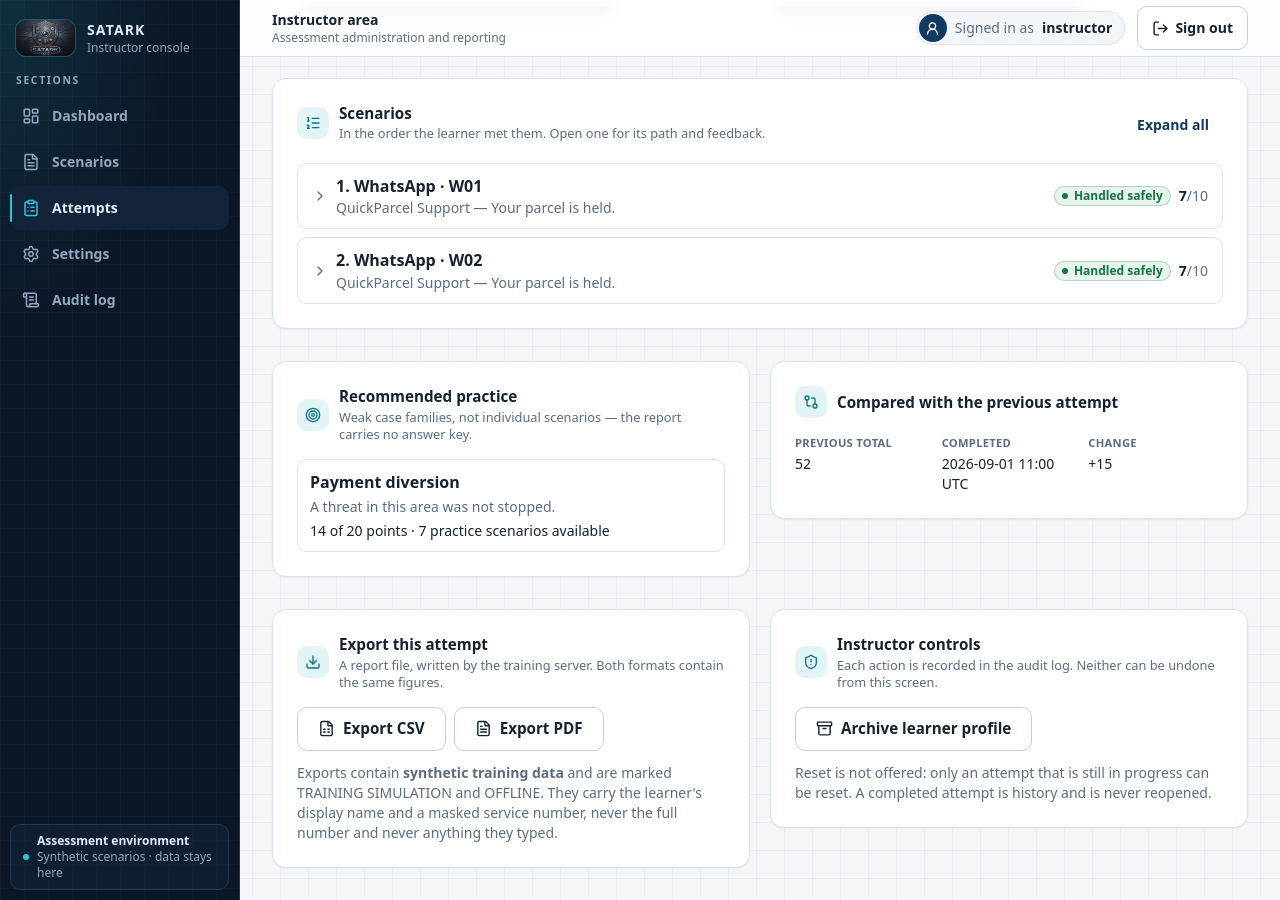
Test case: export › reports an export failure without claiming a file exists
The image size is (1280, 900).
(page scrolled)
What coordinates should you click on to do the following:
click the button "Export CSV"
I would click on:
 (371, 729)
Its box is x1=297 y1=707 x2=446 y2=751.
(page scrolled)
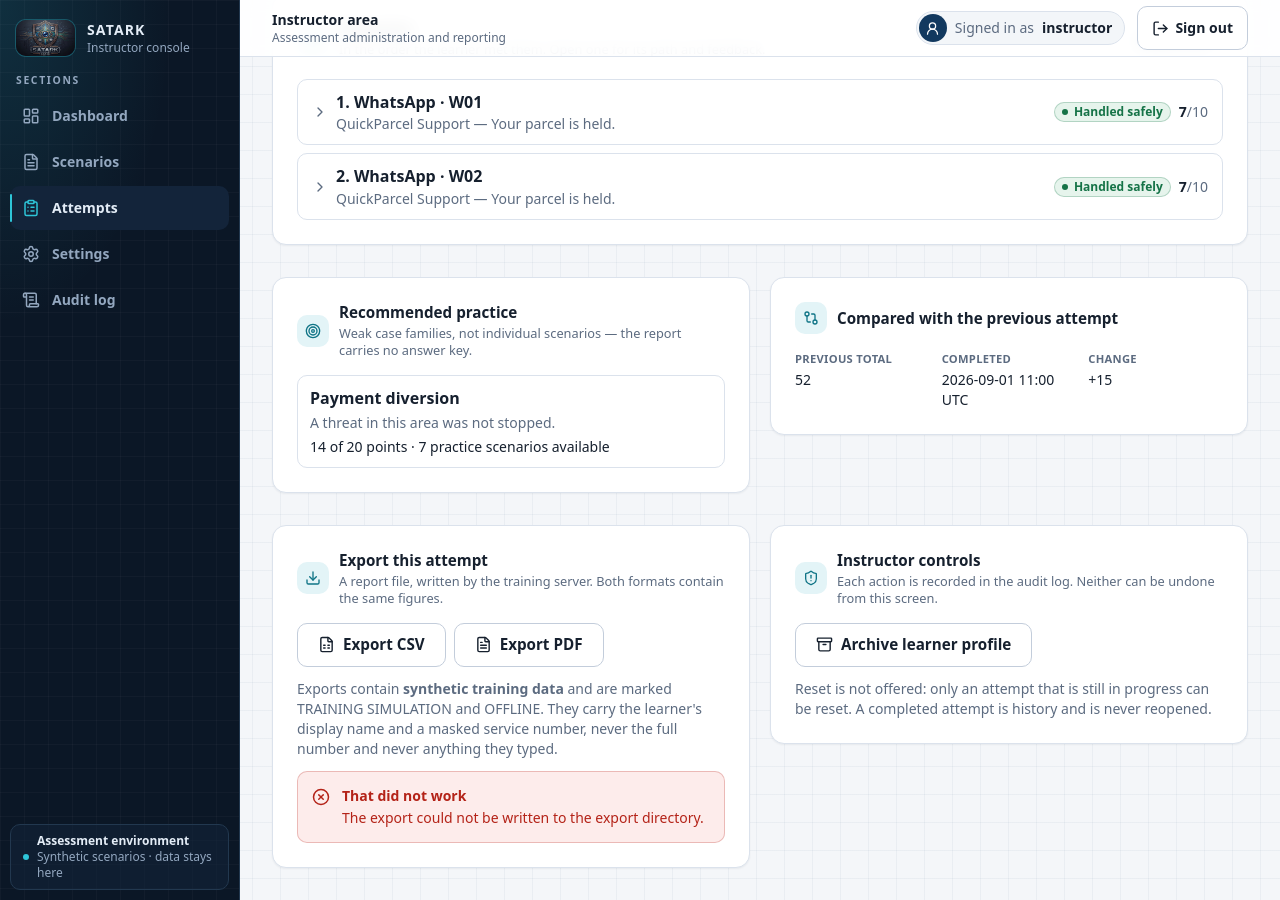
Result: the text "The export could not be written to the export directory." is shown at x1=342 y1=808 x2=704 y2=828
